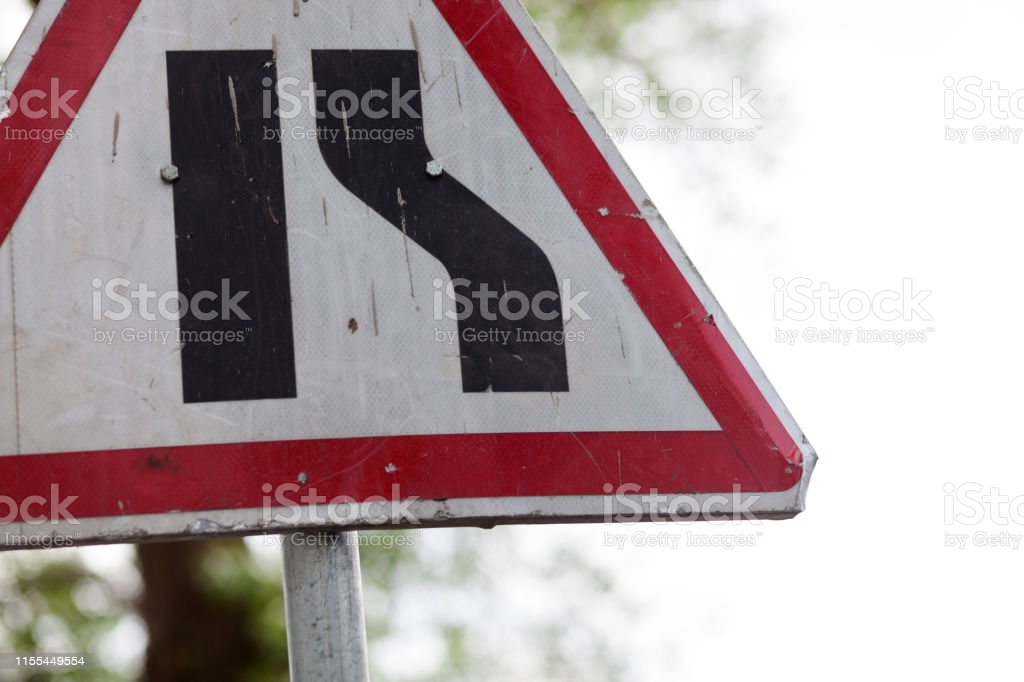narrow-road: (119, 37, 581, 410)
